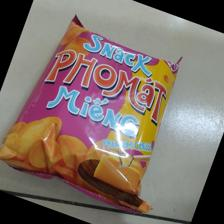Oishi_phomat: (1, 14, 185, 218)
